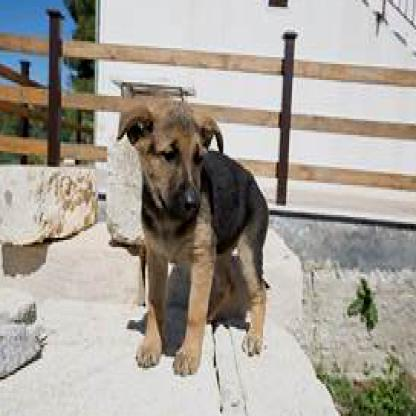dog: (114, 98, 268, 375)
